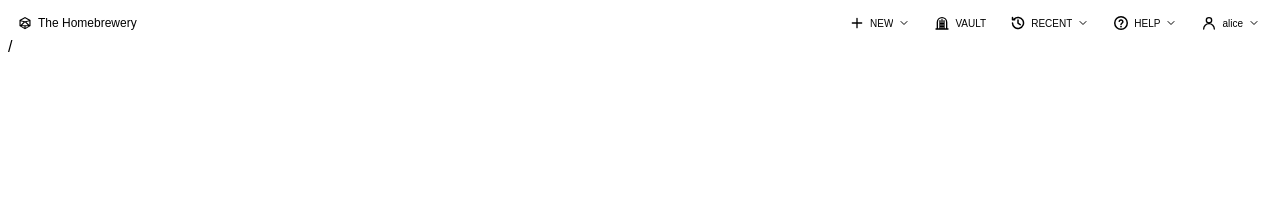
Navbar › signed in: the account disclosure lists the user pages and closes on Escape
The width and height of the screenshot is (1280, 211).
Click the button with aria-label "Account: alice" at (1231, 23), box [1189,8,1272,38]
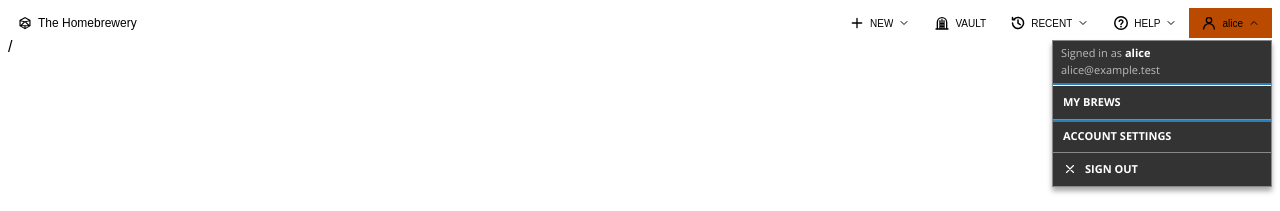
Check: the button with aria-label "Account: alice" is expanded, box [1189,8,1272,38]
Check: the text "Signed in as" shows "Signed in as alice", box [1061,45,1160,76]
Press Escape
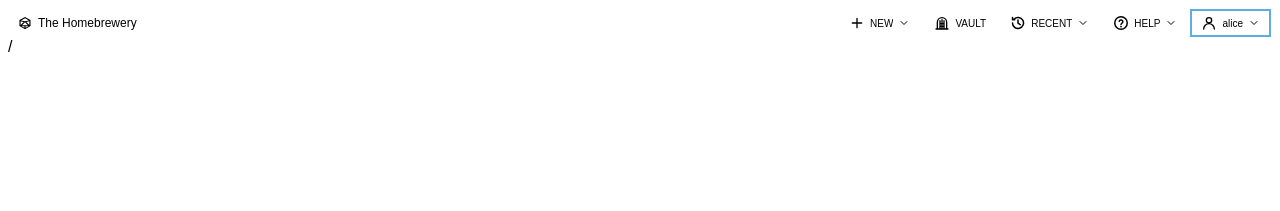
Check: the link "Account" is gone
Check: the button with aria-label "Account: alice" is collapsed, box [1189,8,1272,38]
